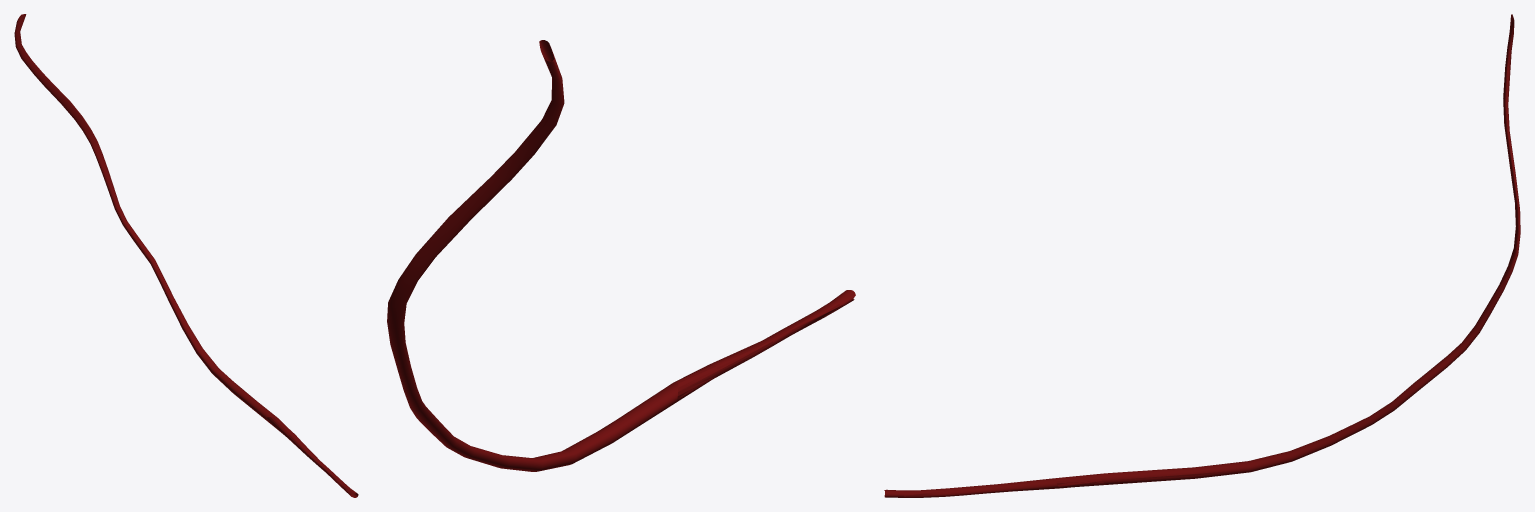
File: R arteria epigastrica cranialis.fbx
3 views of the same model, side by side, from view 1: azimuth 30°, elevation 25°; view 2: azimuth 150°, elevation 25°; view 3: azimuth 270°, elevation 25° (orthographic). The views are drawn at different scales.
Parts seen in each view (by area): view 1: R arteria epigastrica cranialis, R arteria epigastrica cranialis low; view 2: R arteria epigastrica cranialis, R arteria epigastrica cranialis low; view 3: R arteria epigastrica cranialis, R arteria epigastrica cranialis low.
Boxes of the visible parts, x1,y1,x2,y2 form: R arteria epigastrica cranialis: (14, 14, 358, 497); R arteria epigastrica cranialis low: (14, 19, 357, 497); R arteria epigastrica cranialis: (387, 40, 855, 471); R arteria epigastrica cranialis low: (387, 40, 855, 456); R arteria epigastrica cranialis: (884, 14, 1520, 497); R arteria epigastrica cranialis low: (884, 14, 1519, 496).
Bounding box in the file's own units: 11.04 × 32.85 × 44.56.
